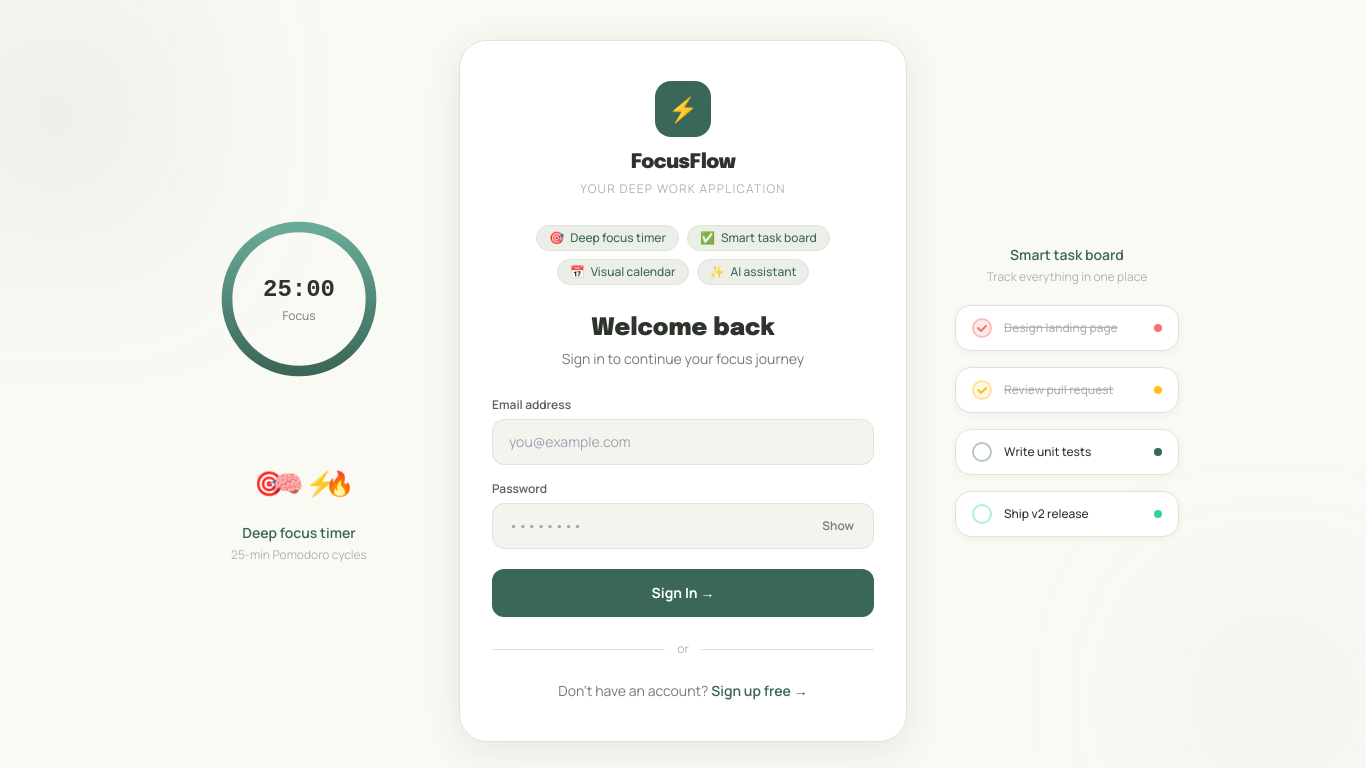
Test case: LoginPage › AUTH-05: shows fallback error when server provides no detail
Type "alice@test.com" into the field labelled "Email address" at (683, 442), box [492, 419, 874, 465]
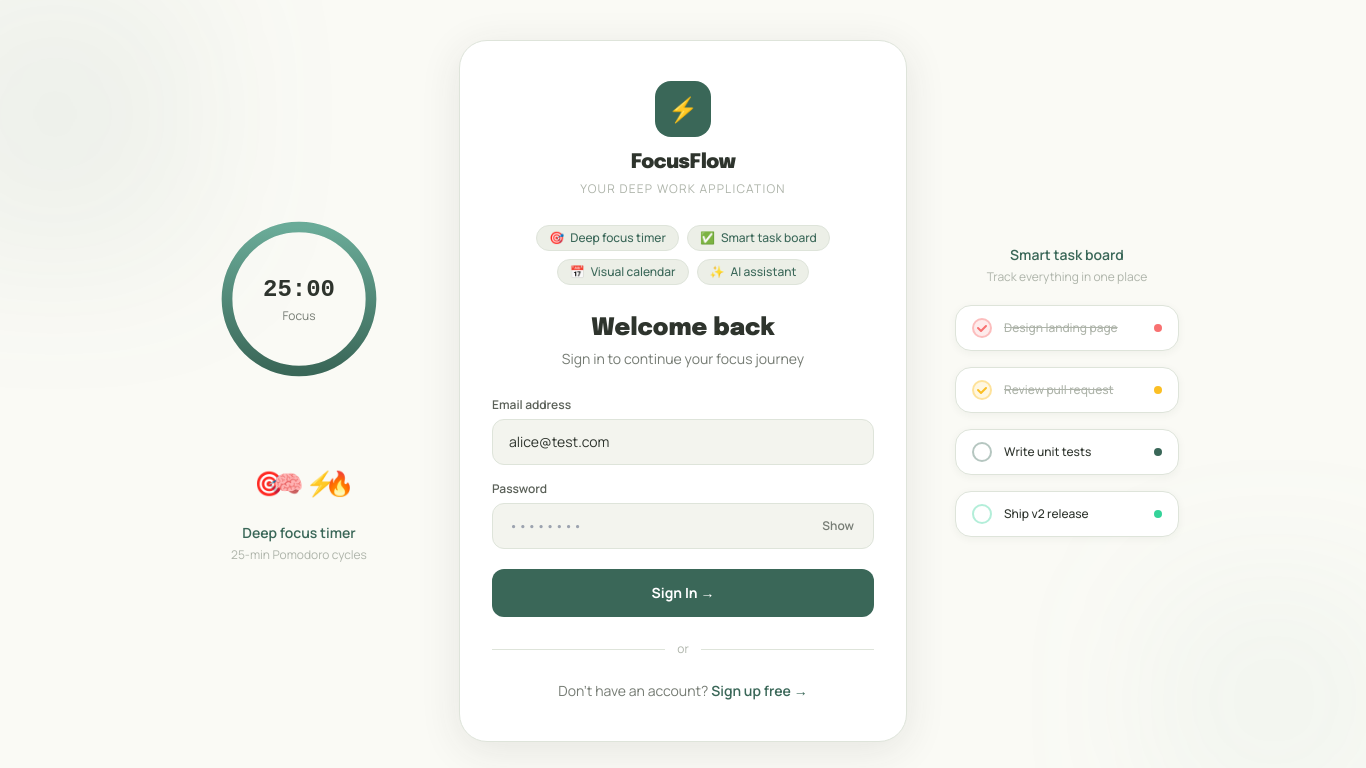
Type "password123" into the password field labelled "Password" at (683, 526), box [492, 503, 874, 549]
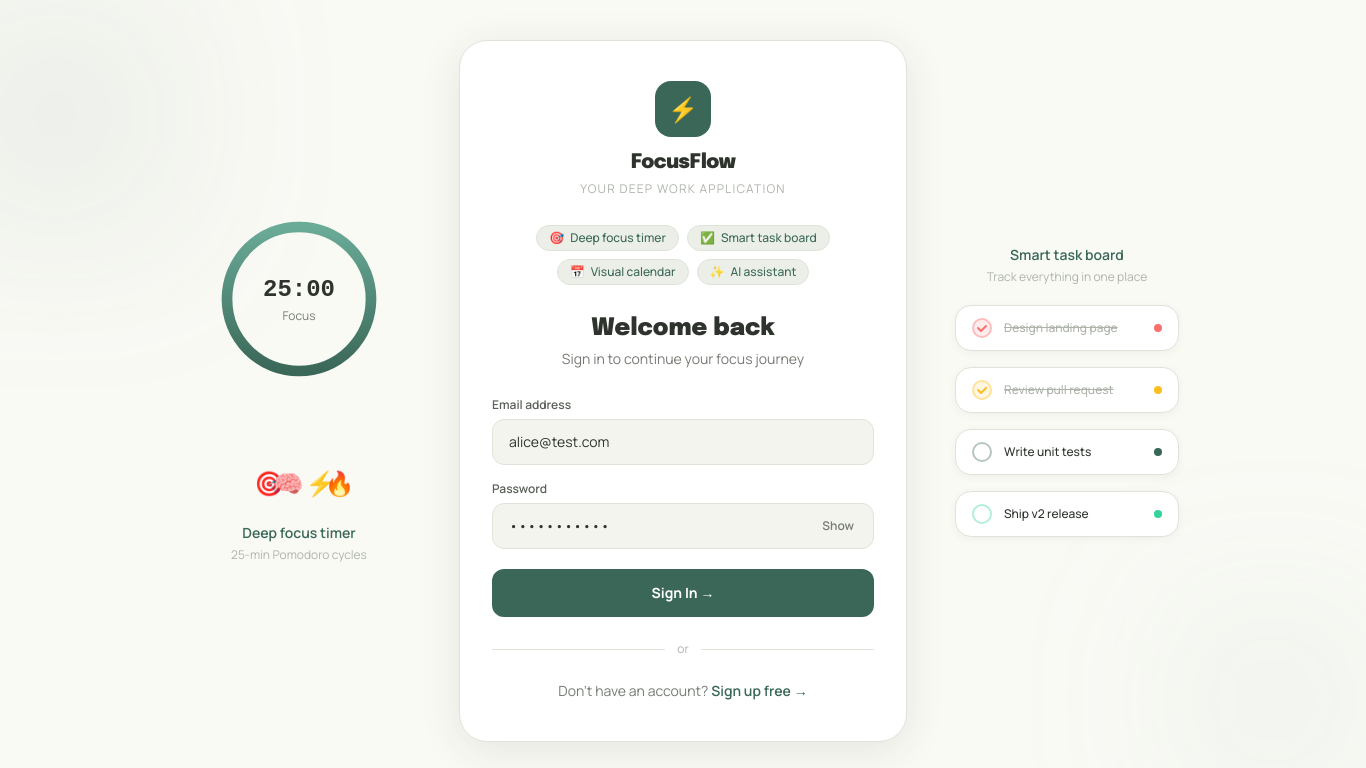
Click the button "Sign In →" at (683, 593), box [492, 569, 874, 617]
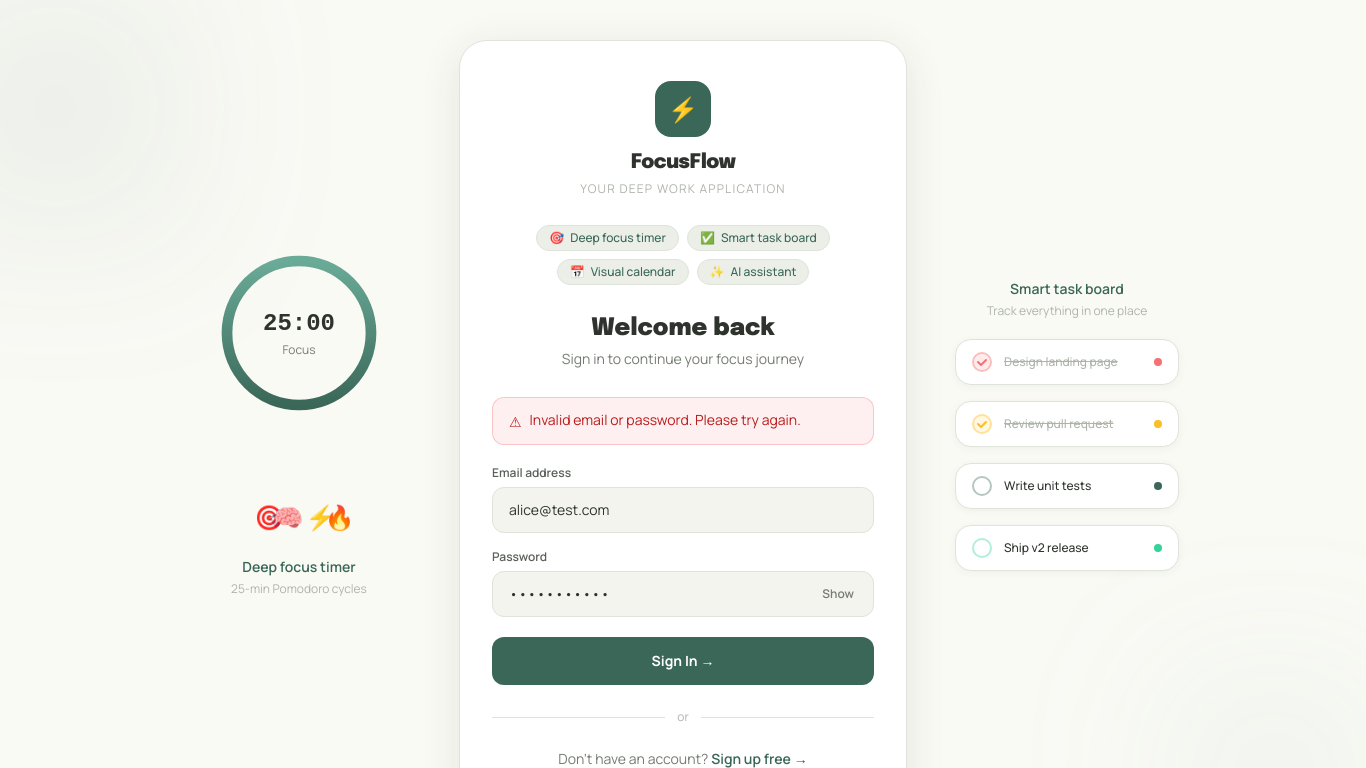
Result: the text "Invalid email or password. Please try again." is shown at [530, 410, 801, 430]
